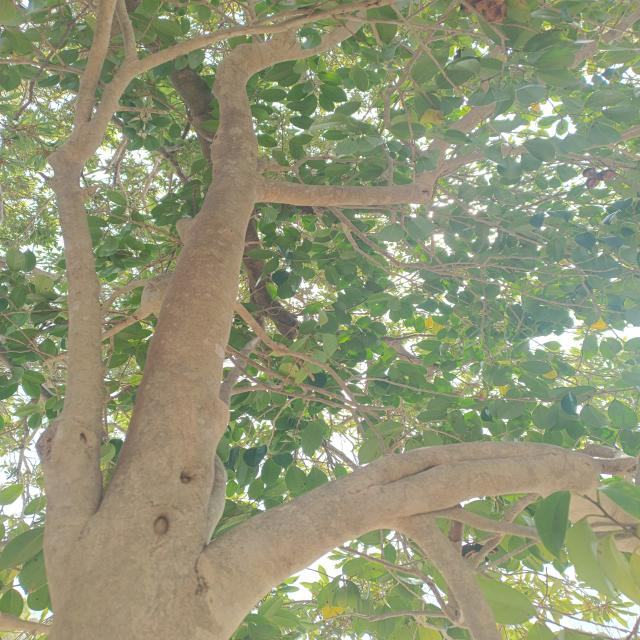Branch: (93, 21, 302, 543), (213, 441, 597, 626), (38, 124, 100, 614)
Twig: (81, 0, 381, 145), (262, 101, 499, 207), (397, 517, 502, 640), (74, 0, 118, 127), (438, 507, 539, 542)
